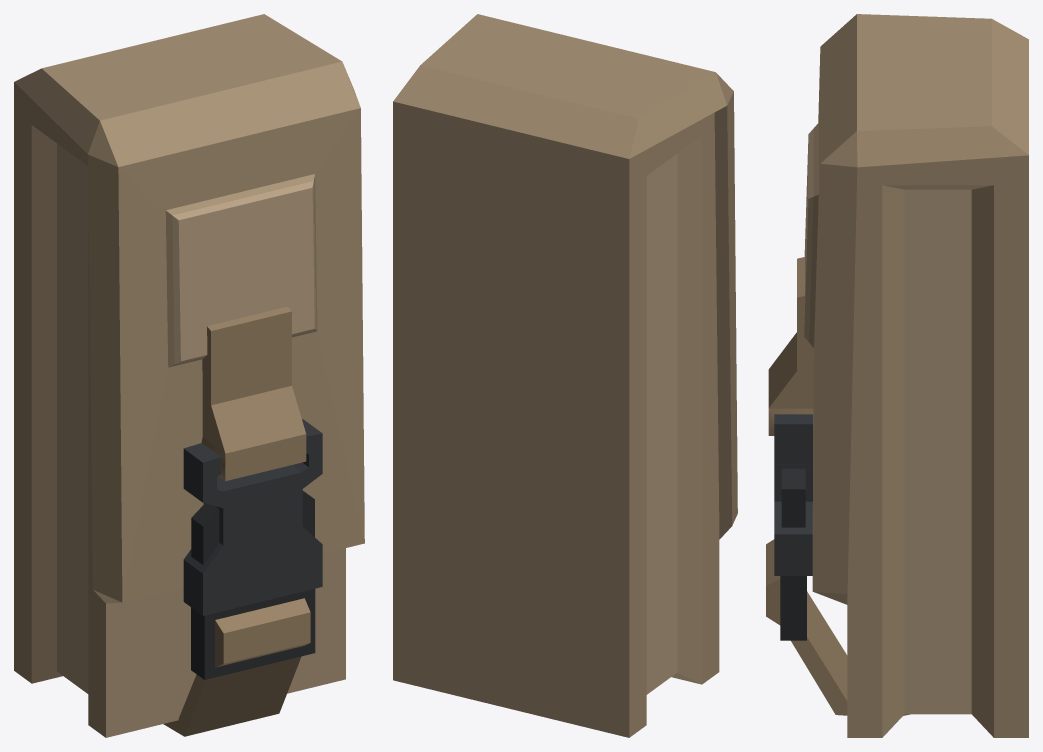
Rendered from SM_Item_Pouch_01.fbx.
3 views of the same model, side by side, from view 1: azimuth 30°, elevation 25°; view 2: azimuth 150°, elevation 25°; view 3: azimuth 270°, elevation 25° (orthographic).
Parts seen in each view (by area): view 1: SM_Item_Pouch_01; view 2: SM_Item_Pouch_01; view 3: SM_Item_Pouch_01.
Boxes of the visible parts, box(x1,y1,x2,y2) form: SM_Item_Pouch_01: box(14, 14, 364, 737); SM_Item_Pouch_01: box(393, 14, 737, 737); SM_Item_Pouch_01: box(766, 14, 1028, 737).
Bounding box in the file's own units: 8.32 × 18.83 × 7.2.
